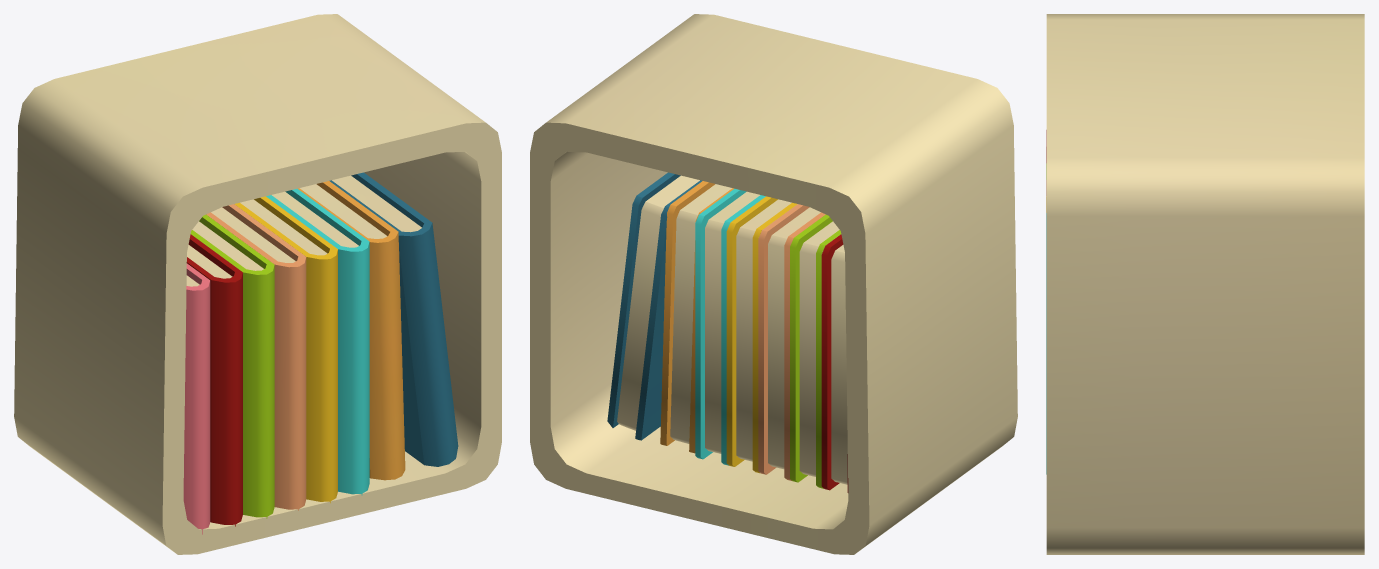
File: Modular_bookshelf_part_11.FBX
3 renders of one model, left to right at view 1: azimuth 30°, elevation 25°; view 2: azimuth 150°, elevation 25°; view 3: azimuth 270°, elevation 25°, orthographic. The views are drawn at different scales.
Parts seen in each view (by area): view 1: Modular_bookshelf_part_11; view 2: Modular_bookshelf_part_11; view 3: Modular_bookshelf_part_11.
Boxes of the visible parts, <box> form: Modular_bookshelf_part_11: <box>14,14,501,554</box>; Modular_bookshelf_part_11: <box>530,14,1017,554</box>; Modular_bookshelf_part_11: <box>1046,14,1364,554</box>.
Bounding box in the file's own units: 30.14 × 31.02 × 22.84.
1 material, 1 textured.
